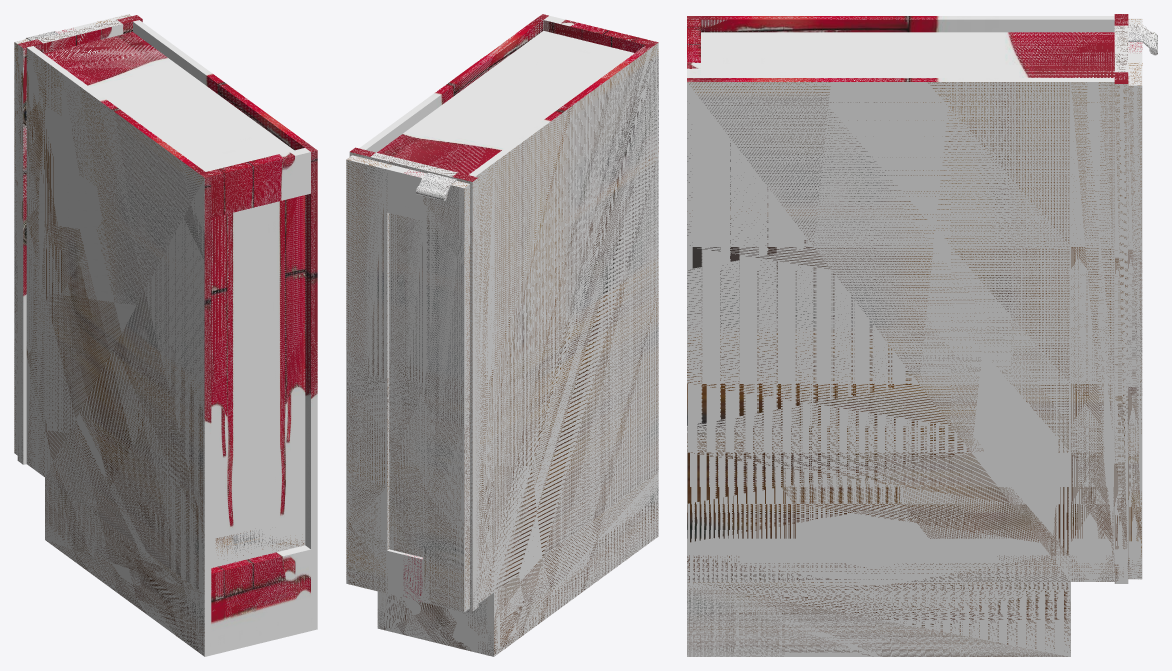
The picture shows the model from 3 angles, left to right: view 1: azimuth 30°, elevation 25°; view 2: azimuth 150°, elevation 25°; view 3: azimuth 270°, elevation 25°; orthographic projection. The views are drawn at different scales.
Parts seen in each view (by area): view 1: mesh7_mesh7-geometry, mesh4_mesh4-geometry, mesh14_mesh14-geometry, mesh8_mesh8-geometry, mesh12_mesh12-geometry, mesh6_mesh6-geometry, mesh10_mesh10-geometry, mesh3_mesh3-geometry, mesh2_mesh2-geometry, mesh17_mesh17-geometry, mesh5_mesh5-geometry; view 2: mesh7_mesh7-geometry, mesh17_mesh17-geometry, mesh19_mesh19-geometry, mesh14_mesh14-geometry, mesh21_mesh21-geometry, mesh8_mesh8-geometry, mesh6_mesh6-geometry, mesh2_mesh2-geometry, mesh13_mesh13-geometry, mesh10_mesh10-geometry, mesh3_mesh3-geometry, mesh16_mesh16-geometry (+3 smaller); view 3: mesh10_mesh10-geometry, mesh11_mesh11-geometry, mesh9_mesh9-geometry, mesh14_mesh14-geometry, mesh2_mesh2-geometry, mesh19_mesh19-geometry, mesh7_mesh7-geometry, mesh3_mesh3-geometry, mesh6_mesh6-geometry, mesh5_mesh5-geometry.
Part boxes in pixels (x1,y1,x2,y2): mesh7_mesh7-geometry: (45, 59, 211, 594); mesh4_mesh4-geometry: (211, 195, 305, 567); mesh14_mesh14-geometry: (44, 32, 294, 171); mesh8_mesh8-geometry: (45, 478, 211, 656); mesh12_mesh12-geometry: (211, 545, 310, 655); mesh6_mesh6-geometry: (26, 46, 50, 476); mesh10_mesh10-geometry: (151, 33, 317, 568); mesh3_mesh3-geometry: (206, 148, 310, 217); mesh2_mesh2-geometry: (17, 15, 142, 464); mesh17_mesh17-geometry: (14, 39, 29, 455); mesh5_mesh5-geometry: (38, 20, 122, 53); mesh7_mesh7-geometry: (487, 40, 658, 591); mesh17_mesh17-geometry: (423, 181, 469, 612); mesh19_mesh19-geometry: (346, 155, 392, 593); mesh14_mesh14-geometry: (377, 31, 634, 174); mesh21_mesh21-geometry: (389, 213, 422, 557); mesh8_mesh8-geometry: (487, 472, 658, 656); mesh6_mesh6-geometry: (468, 161, 493, 603); mesh2_mesh2-geometry: (349, 147, 478, 611); mesh13_mesh13-geometry: (384, 593, 486, 655); mesh10_mesh10-geometry: (378, 14, 548, 146); mesh3_mesh3-geometry: (543, 15, 651, 52); mesh16_mesh16-geometry: (387, 165, 426, 220); mesh10_mesh10-geometry: (687, 78, 1070, 581); mesh11_mesh11-geometry: (687, 582, 1070, 656); mesh9_mesh9-geometry: (1071, 78, 1114, 581); mesh14_mesh14-geometry: (701, 32, 1114, 77); mesh2_mesh2-geometry: (1114, 14, 1128, 583); mesh19_mesh19-geometry: (1128, 62, 1142, 579); mesh7_mesh7-geometry: (687, 16, 1070, 32); mesh3_mesh3-geometry: (687, 19, 700, 77); mesh6_mesh6-geometry: (1071, 16, 1114, 32); mesh5_mesh5-geometry: (1114, 25, 1128, 72).
Size of the model in its own units: 0.205 by 0.7859 by 0.5834.
